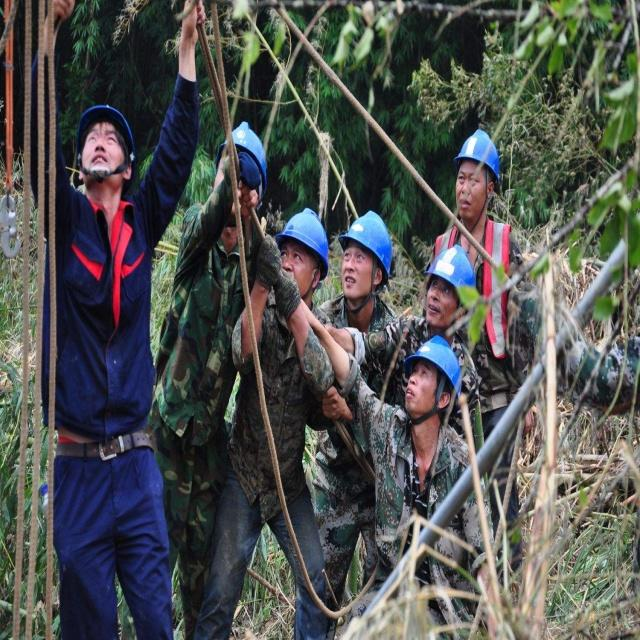helmet: (75, 132, 134, 264), (215, 167, 268, 301), (277, 281, 330, 407), (407, 449, 461, 568), (341, 280, 391, 408), (452, 171, 500, 296), (424, 331, 474, 437)
